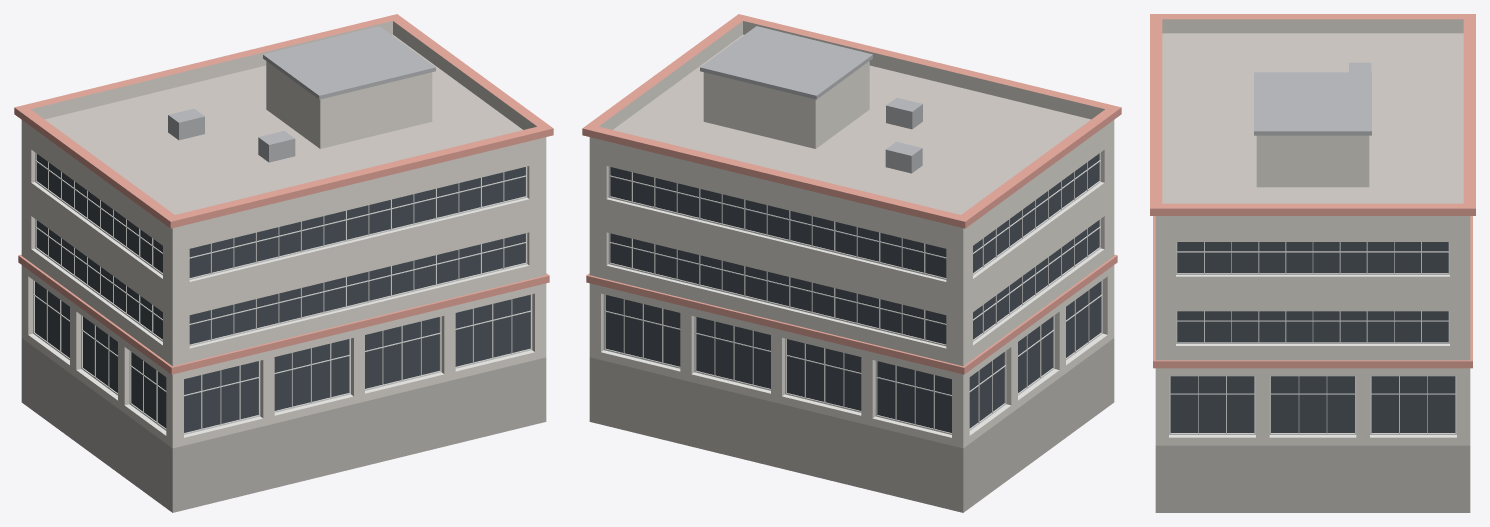
File: office_3_m.glb
3 views of the same model, side by side, from view 1: azimuth 30°, elevation 25°; view 2: azimuth 150°, elevation 25°; view 3: azimuth 270°, elevation 25° (orthographic). The views are drawn at different scales.
Visible parts, largest first — view 1: office_3_m; view 2: office_3_m; view 3: office_3_m.
Boxes of the visible parts, x1=… form: office_3_m: x1=14, y1=14, x2=553, y2=512; office_3_m: x1=582, y1=14, x2=1121, y2=512; office_3_m: x1=1150, y1=14, x2=1475, y2=512.
Size of the model in its own units: 20.5 by 17.15 by 14.5.
